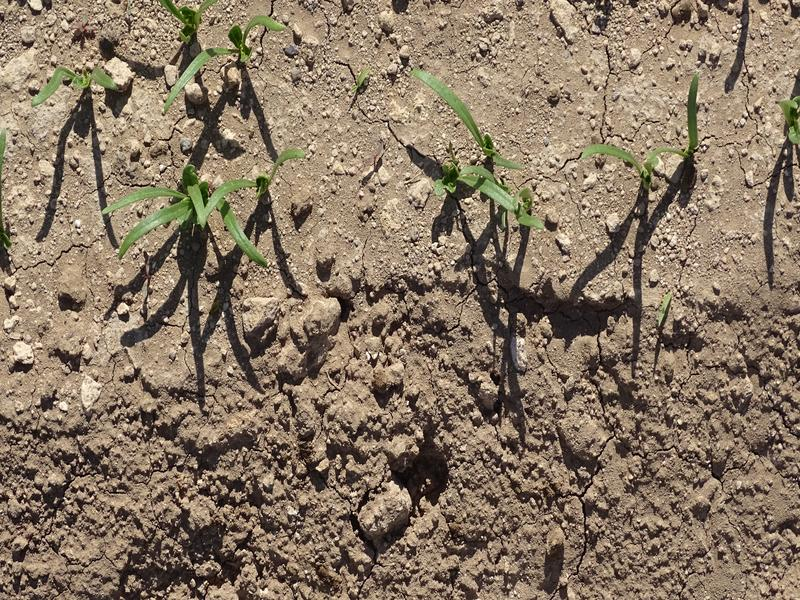Espinaca: (98, 147, 309, 268), (407, 68, 548, 227), (159, 3, 281, 113), (577, 79, 707, 178), (40, 66, 114, 106), (774, 94, 800, 139)
